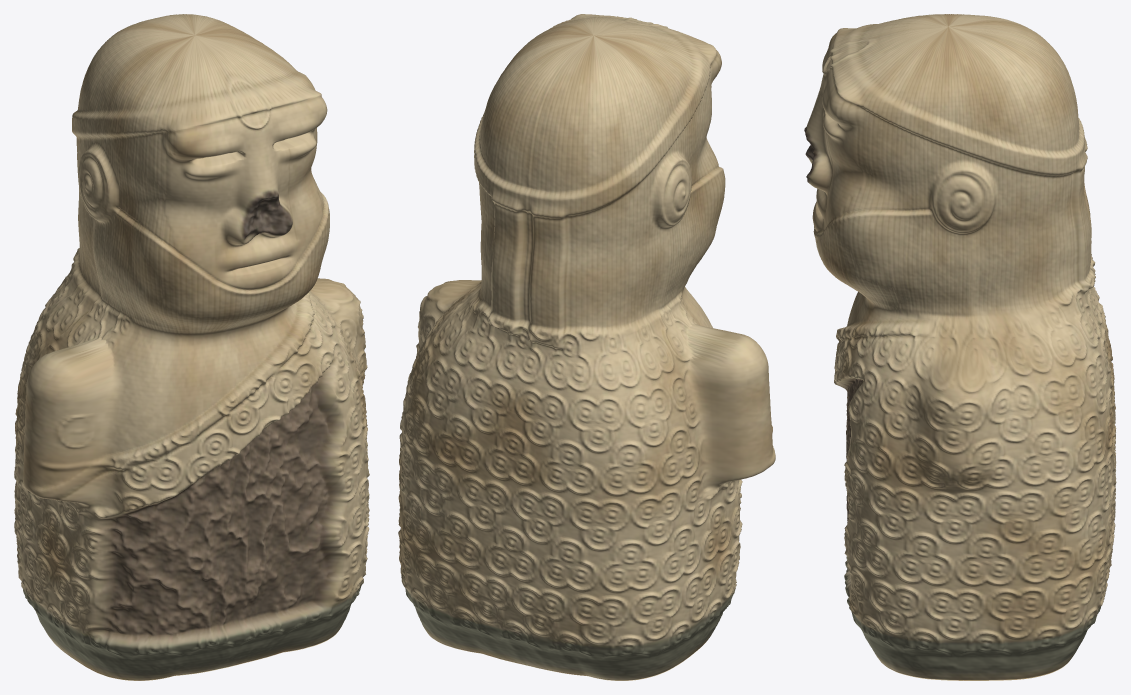
Rendered from priest-king-draco.glb.
The picture shows the model from 3 angles, left to right: view 1: azimuth 30°, elevation 25°; view 2: azimuth 150°, elevation 25°; view 3: azimuth 270°, elevation 25°; orthographic projection. The views are drawn at different scales.
Visible parts, largest first — view 1: PriestKing; view 2: PriestKing; view 3: PriestKing.
Boxes of the visible parts, left/top/right/bottom form: PriestKing: left=14, top=14, right=369, bottom=680; PriestKing: left=398, top=14, right=775, bottom=680; PriestKing: left=804, top=14, right=1116, bottom=680.
Size of the model in its own units: 0.1052 by 0.1758 by 0.0843.
1 material, 1 textured.
